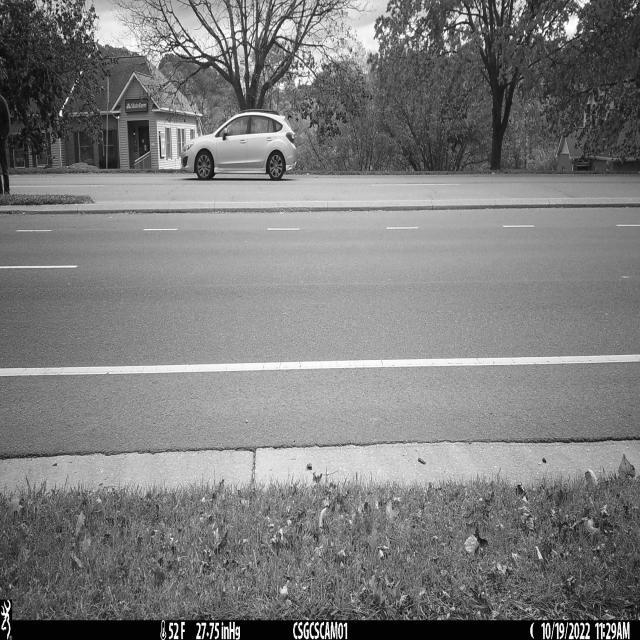Hatchback: (181, 109, 298, 181)
